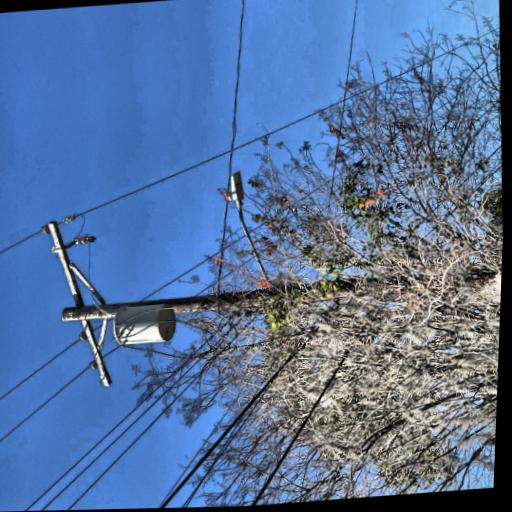insulator: (46, 231, 57, 245), (19, 246, 31, 258), (145, 185, 155, 198)
pole: (43, 219, 103, 511)
street light: (87, 395, 194, 442)
transformer: (37, 268, 81, 341)
vegetation_encroachment: (29, 398, 117, 511)
